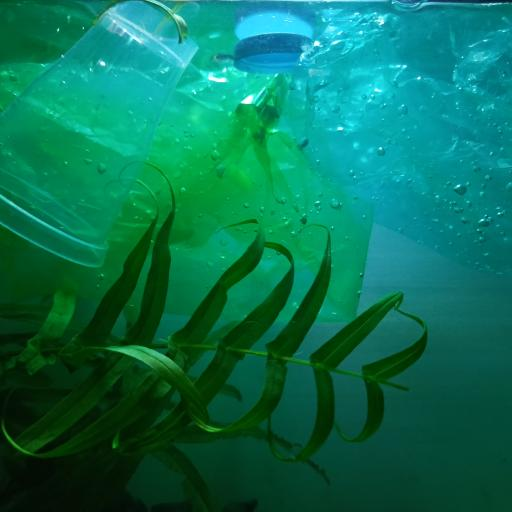bottle_cap: (236, 32, 318, 74)
plastic_bag: (0, 0, 375, 325), (281, 2, 512, 280)
plastic_cup: (0, 0, 201, 269)
